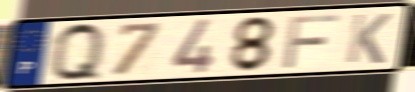4: (170, 16, 217, 77)
7: (111, 20, 164, 78)
8: (228, 14, 278, 73)
F: (281, 12, 342, 70)
K: (343, 12, 394, 66)
Q: (50, 19, 106, 83)
